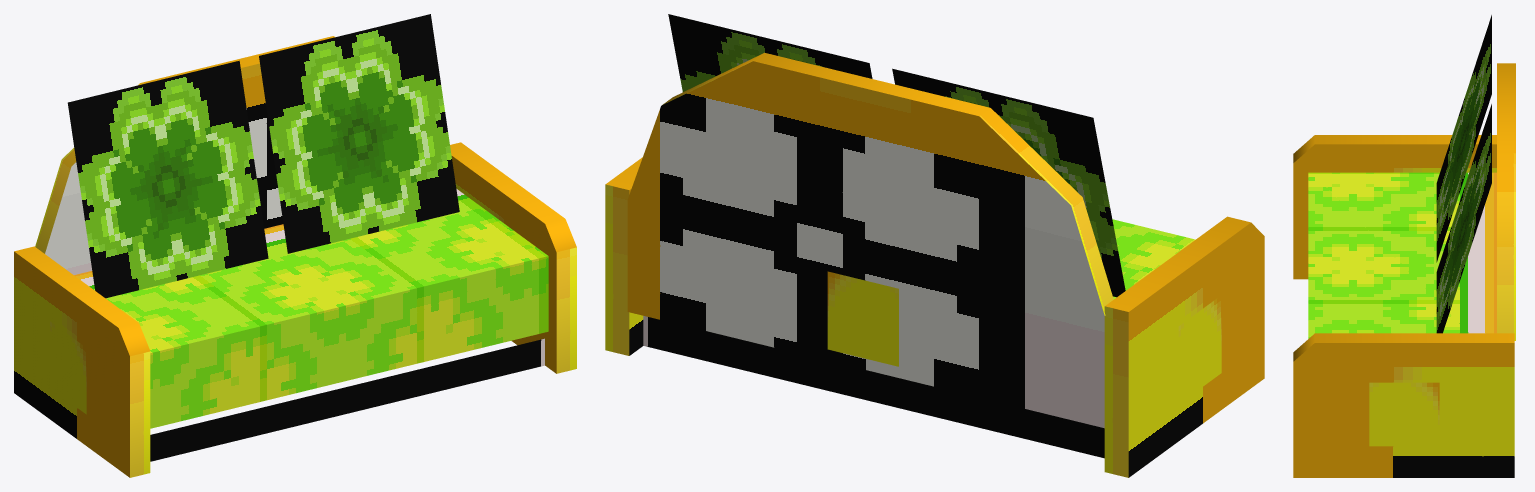
The picture shows the model from 3 angles, left to right: view 1: azimuth 30°, elevation 25°; view 2: azimuth 150°, elevation 25°; view 3: azimuth 270°, elevation 25°; orthographic projection. The views are drawn at different scales.
Visible parts, largest first — view 1: 3849kg3_ser30; view 2: 3849kg3_ser30; view 3: 3849kg3_ser30.
Part boxes in pixels (left/top/right/bottom): 3849kg3_ser30: left=14, top=14, right=576, bottom=477; 3849kg3_ser30: left=605, top=14, right=1264, bottom=477; 3849kg3_ser30: left=1293, top=15, right=1515, bottom=477.
Size of the model in its own units: 1.86 by 1.13 by 0.8489.
3 materials, 3 textured.
